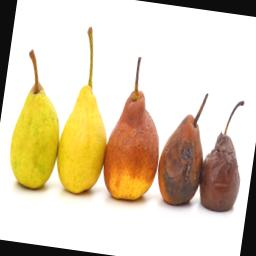Pear Overripe: (96, 45, 176, 206)
Pear Ripe: (0, 41, 73, 195)
Pear Rotten: (153, 86, 215, 212), (200, 92, 255, 214)
Pear Unripe: (52, 24, 120, 195)
